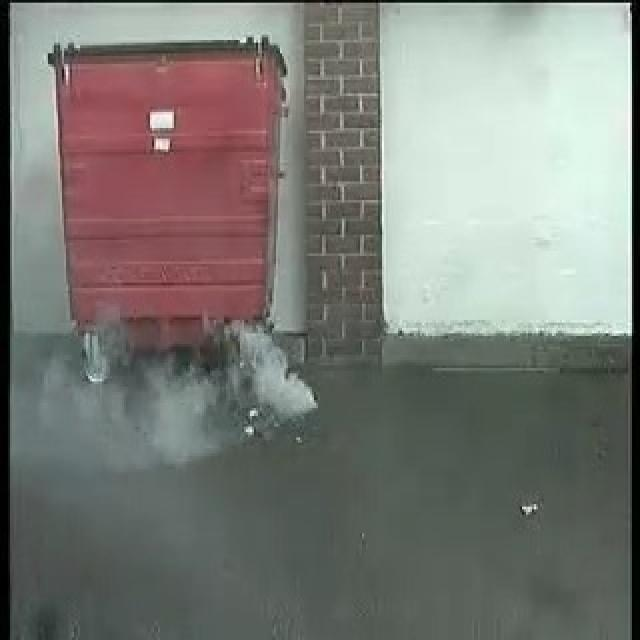smoke: (57, 322, 318, 453)
